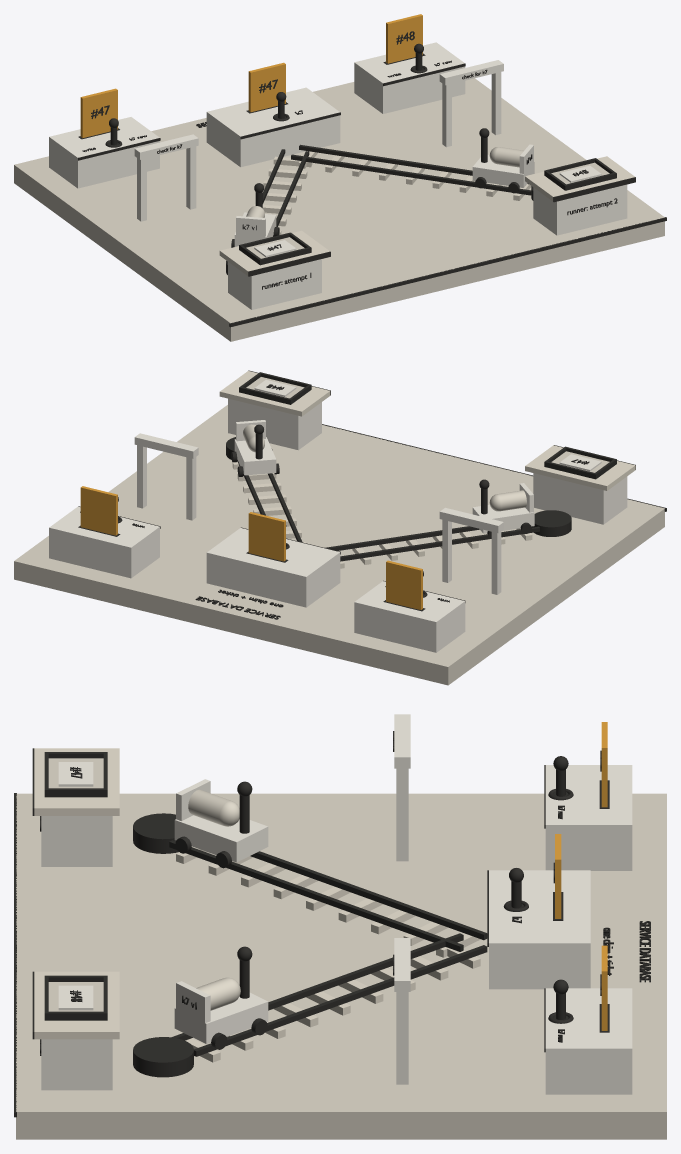
The picture shows the model from 3 angles, top to bottom: view 1: azimuth 30°, elevation 25°; view 2: azimuth 150°, elevation 25°; view 3: azimuth 270°, elevation 25°; orthographic projection. The views are drawn at different scales.
Visible parts, largest first — view 1: Plinth, Claim, Dock_R, Dock_L, Desk_R, Desk_L, Plinth_edge, Ticket_L_47, Ticket_A_47, Ticket_R_48, Arm_R_rail-1, DeskTop_L (+12 smaller); view 2: Plinth, Claim, Dock_L, Dock_R, Desk_L, Desk_R, Ticket_R_48, Ticket_A_47, DeskTop_R, DeskTop_L, Ticket_L_47, Car_R_body (+11 smaller); view 3: Plinth, Claim, Dock_R, Dock_L, Desk_R, Desk_L, DeskTop_R, DeskTop_L, Car_L_body, Car_R_body, Arm_L_rail+1, Arm_R_rail+1 (+18 smaller).
Boxes of the visible parts, left/top/right/bottom form: Plinth: left=14, top=78, right=664, bottom=341; Claim: left=206, top=87, right=340, bottom=167; Dock_R: left=354, top=42, right=465, bottom=113; Dock_L: left=49, top=117, right=159, bottom=188; Desk_R: left=533, top=184, right=627, bottom=235; Desk_L: left=228, top=259, right=321, bottom=309; Plinth_edge: left=229, top=217, right=666, bottom=327; Ticket_L_47: left=80, top=88, right=117, bottom=137; Ticket_A_47: left=248, top=62, right=285, bottom=112; Ticket_R_48: left=386, top=14, right=422, bottom=63; Arm_R_rail-1: left=291, top=154, right=531, bottom=195; DeskTop_L: left=219, top=230, right=329, bottom=275; Plinth: left=14, top=405, right=664, bottom=685; Claim: left=206, top=528, right=340, bottom=607; Dock_L: left=354, top=581, right=465, bottom=652; Dock_R: left=49, top=506, right=159, bottom=578; Desk_L: left=533, top=473, right=627, bottom=524; Desk_R: left=228, top=398, right=321, bottom=450; Ticket_R_48: left=80, top=486, right=117, bottom=535; Ticket_A_47: left=248, top=512, right=285, bottom=561; DeskTop_R: left=219, top=371, right=330, bottom=416; DeskTop_L: left=525, top=445, right=635, bottom=490; Ticket_L_47: left=386, top=560, right=422, bottom=609; Car_R_body: left=234, top=437, right=276, bottom=475; Plinth: left=16, top=793, right=666, bottom=1139; Claim: left=489, top=870, right=590, bottom=989; Dock_R: left=545, top=988, right=632, bottom=1094; Dock_L: left=545, top=765, right=632, bottom=870; Desk_R: left=41, top=1039, right=112, bottom=1090; Desk_L: left=41, top=816, right=112, bottom=866; DeskTop_R: left=34, top=971, right=119, bottom=1039; DeskTop_L: left=34, top=748, right=119, bottom=815; Car_L_body: left=174, top=815, right=268, bottom=862; Car_R_body: left=174, top=992, right=268, bottom=1043; Arm_L_rail+1: left=169, top=840, right=463, bottom=951; Arm_R_rail+1: left=194, top=945, right=487, bottom=1056.
Size of the model in its own units: 7.44 by 1.45 by 6.42.
